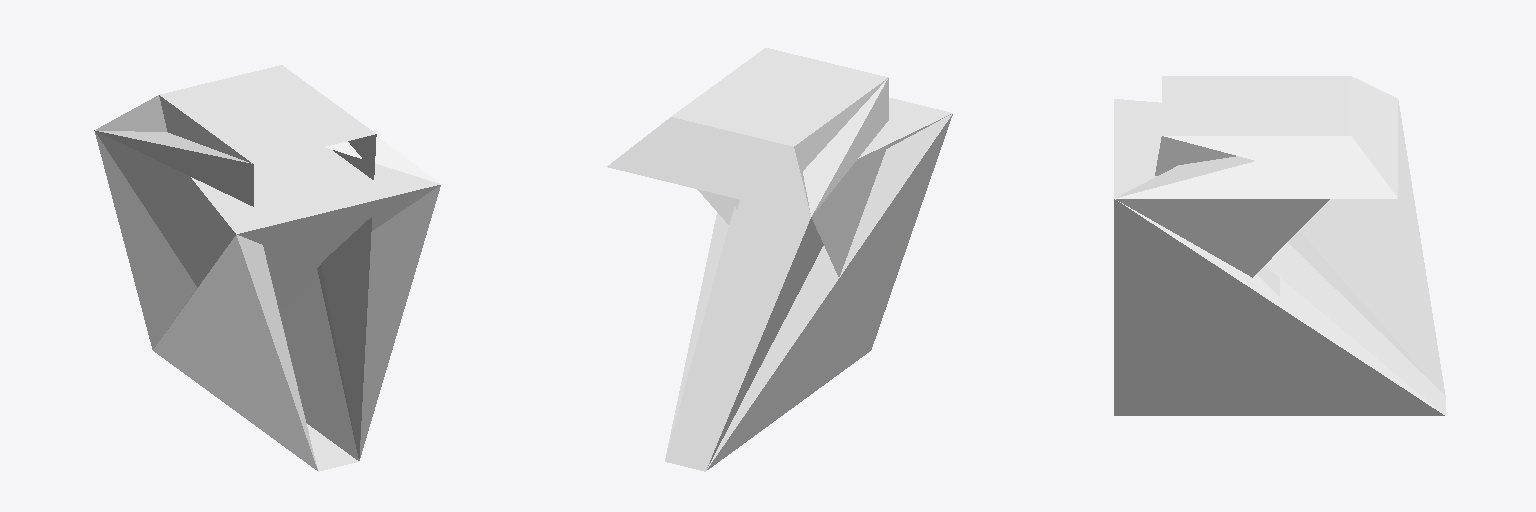
The model's file is creeper.obj.
3 renders of one model, left to right at view 1: azimuth 30°, elevation 25°; view 2: azimuth 150°, elevation 25°; view 3: azimuth 270°, elevation 25°, orthographic.
Size of the model in its own units: 5 by 7 by 7.